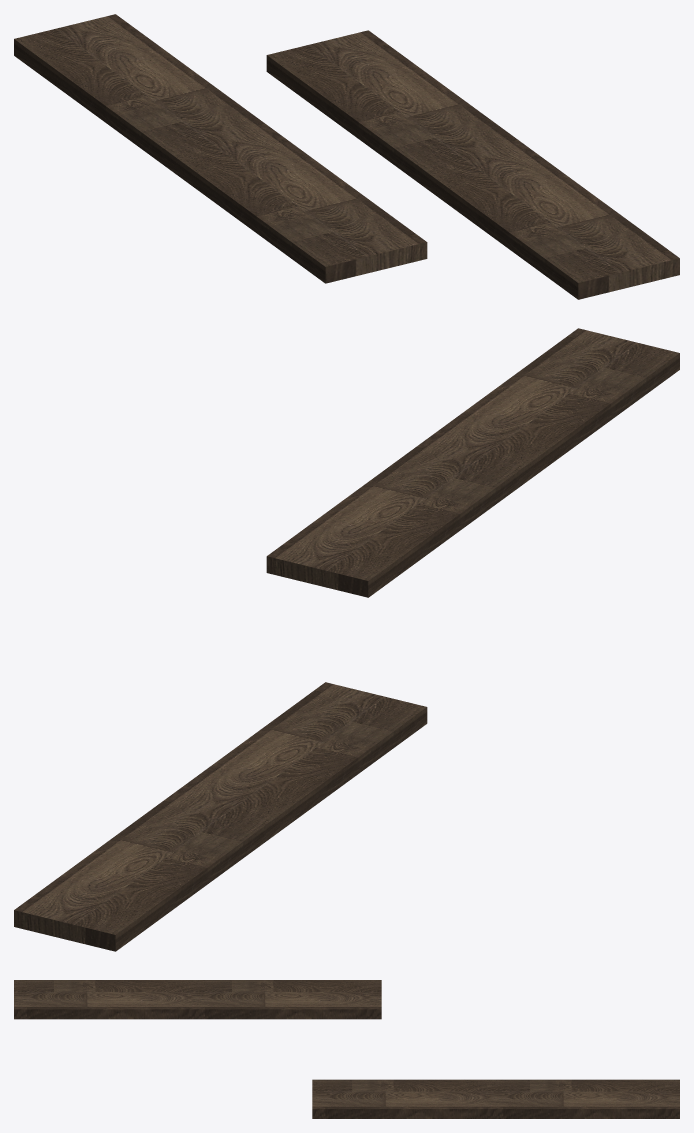
Rendered from M_Dogmuban01.FBX.
3 renders of one model, top to bottom at view 1: azimuth 30°, elevation 25°; view 2: azimuth 150°, elevation 25°; view 3: azimuth 270°, elevation 25°, orthographic. The views are drawn at different scales.
Parts seen in each view (by area): view 1: M_Dogmuban01; view 2: M_Dogmuban01; view 3: M_Dogmuban01.
Part boxes in pixels (x1,y1,x2,y2): M_Dogmuban01: (14, 14, 679, 299); M_Dogmuban01: (14, 328, 679, 951); M_Dogmuban01: (14, 980, 679, 1118).
Size of the model in its own units: 0.5424 by 0.9462 by 5.21.
